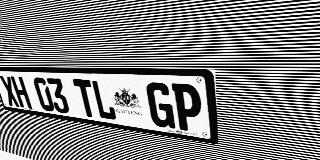0: (32, 77, 55, 112)
3: (46, 78, 70, 114)
G: (145, 82, 175, 129)
H: (10, 76, 32, 109)
L: (90, 80, 117, 121)
P: (171, 83, 203, 133)
T: (72, 79, 98, 118)
X: (0, 76, 20, 107)
